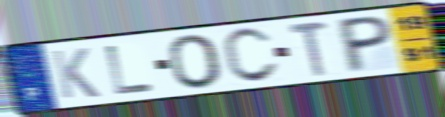C: (219, 26, 282, 86)
K: (48, 46, 103, 101)
L: (103, 43, 157, 97)
O: (165, 32, 226, 90)
P: (339, 13, 395, 75)
T: (285, 19, 332, 78)
